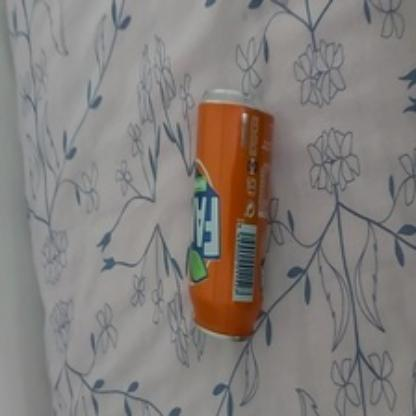Can: (183, 85, 273, 339)
